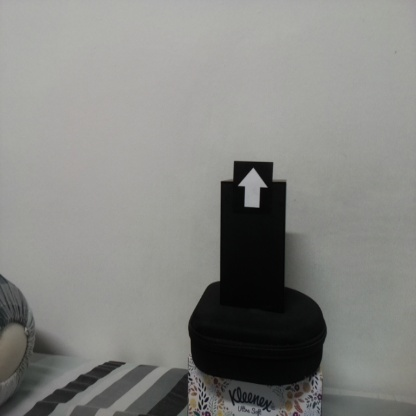id_1: (232, 163, 273, 217)
